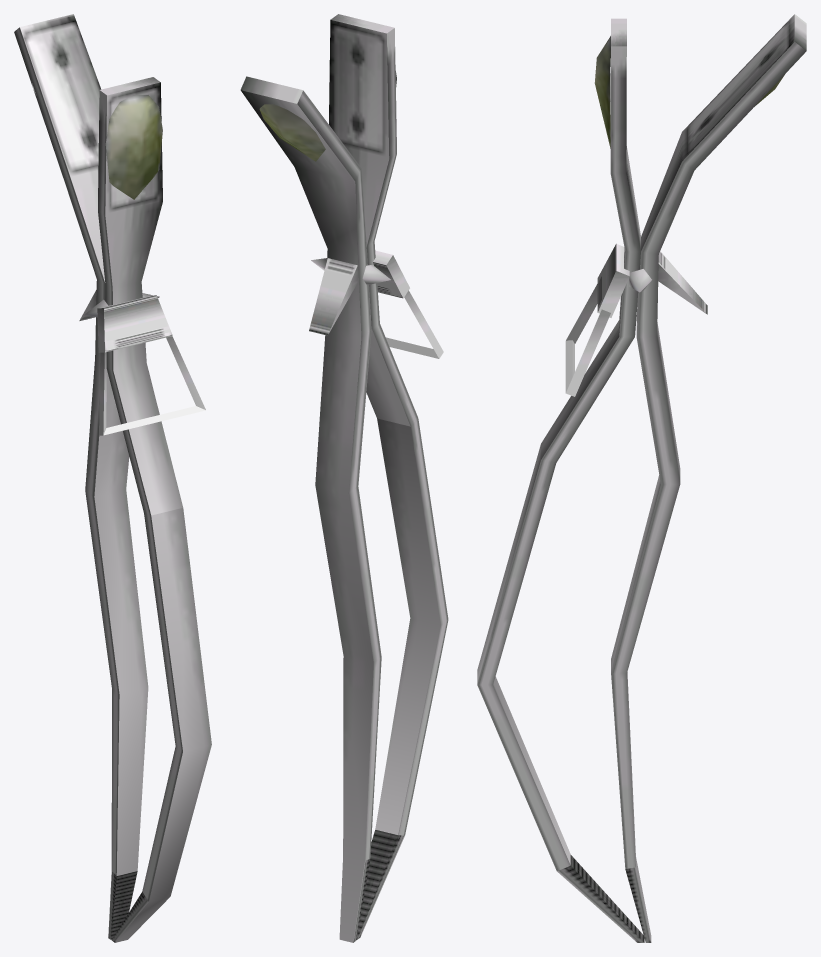
Rendered from thm_prp_meds_extraction_device_l0.fbx.
The picture shows the model from 3 angles, left to right: view 1: azimuth 30°, elevation 25°; view 2: azimuth 150°, elevation 25°; view 3: azimuth 270°, elevation 25°; orthographic projection. The views are drawn at different scales.
Parts seen in each view (by area): view 1: mesh_node; view 2: mesh_node; view 3: mesh_node.
Boxes of the visible parts, box(x1,y1,x2,y2) form: mesh_node: box(14, 14, 211, 942); mesh_node: box(240, 14, 448, 942); mesh_node: box(477, 14, 806, 942).
Size of the model in its own units: 0.0441 by 0.3546 by 0.1161.
Materials: 1 (1 with a texture image).
